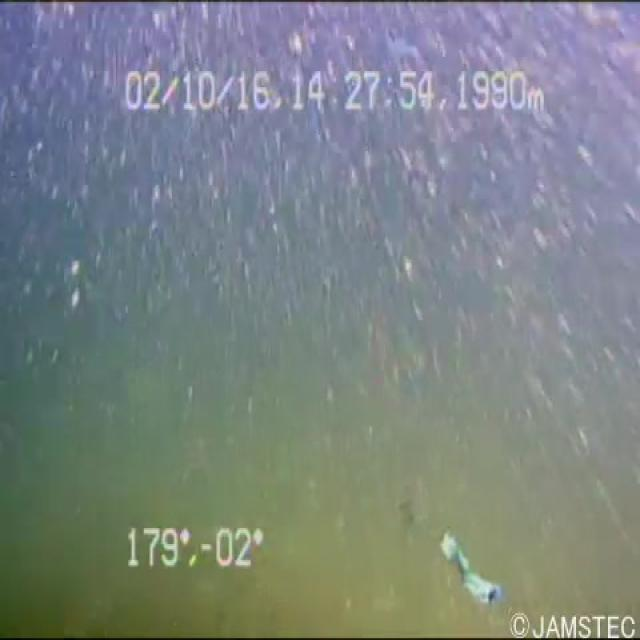plastic: (426, 510, 510, 606)
